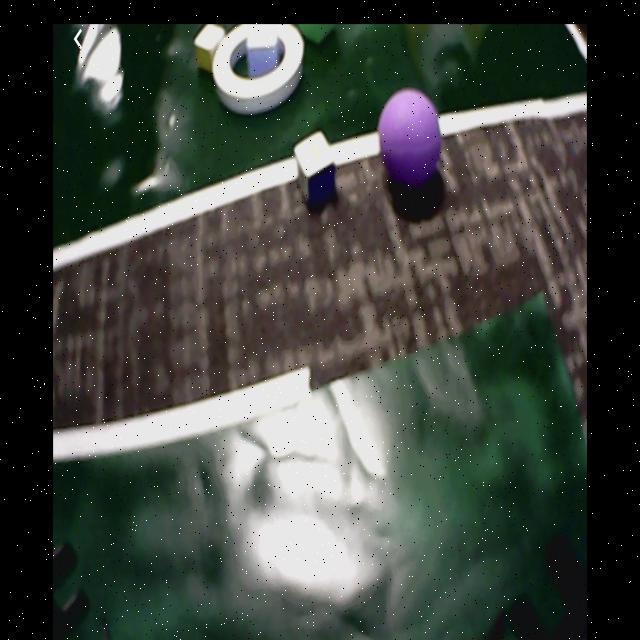ball: (378, 89, 442, 191)
